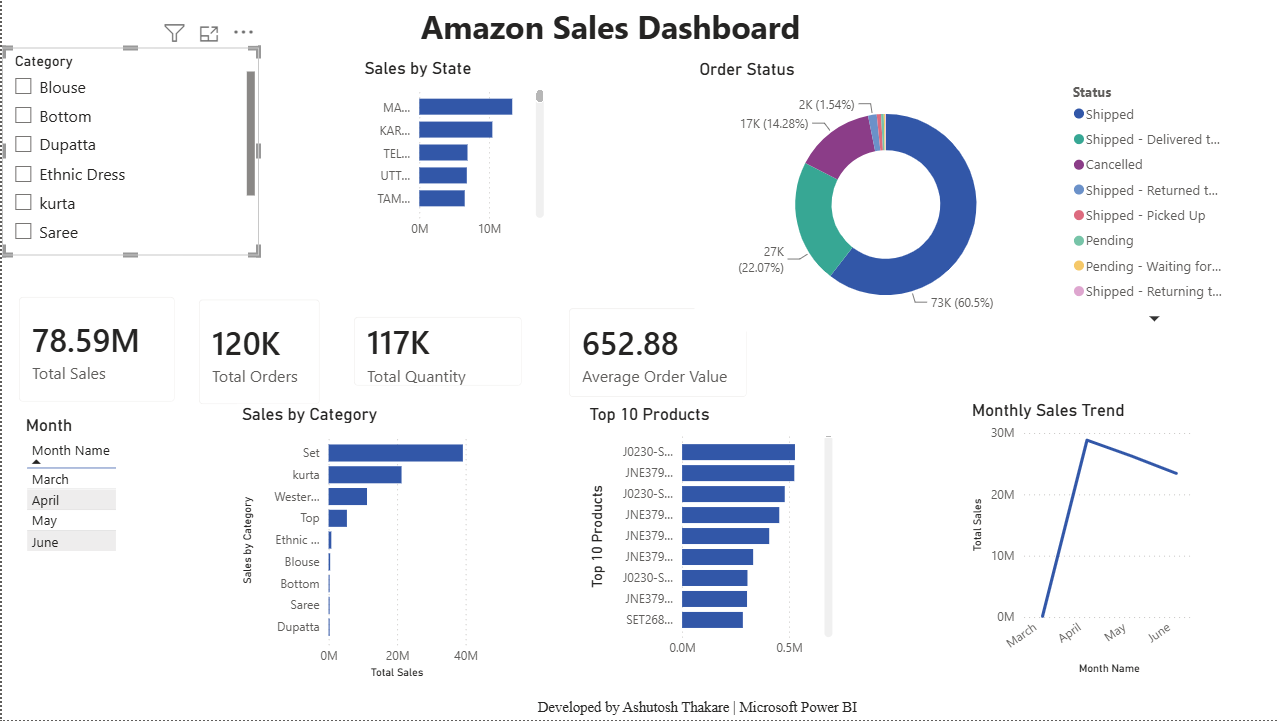

The page's visual inventory and layout, read from the dashboard file:
{"tool":"powerbi","page":{"name":"Page 1","canvas":[1280,720],"ordinal":0},"visuals":[{"type":"tableEx","title":"Month","fields":{"Values":["Date Table.Month Name"]},"box":[18.3,414.5,111.3,243.3],"z":0},{"type":"cardVisual","fields":{"Data":["Amazon Sale Report.Total Sales"]},"box":[0,280,190.8,139.4],"z":1000},{"type":"cardVisual","fields":{"Data":["Amazon Sale Report.Total Orders"]},"box":[179.8,282.5,155.3,139.4],"z":2000},{"type":"cardVisual","fields":{"Data":["Amazon Sale Report.Total Quantity"]},"box":[335.1,299.6,203,103.9],"z":3000},{"type":"cardVisual","fields":{"Data":["Amazon Sale Report.Average Order Value"]},"box":[550.3,291,212.8,123.5],"z":4000},{"type":"textbox","box":[414.3,0,485.7,58.6],"z":5000},{"type":"lineChart","title":"Monthly Sales Trend","fields":{"Category":["Date Table.Month Name"],"Y":["Amazon Sale Report.Total Sales"]},"box":[964.8,399.9,232.3,280],"z":6000},{"type":"slicer","fields":{"Values":["Amazon Sale Report.Category"]},"box":[0,47.7,258,209.1],"z":7000},{"type":"barChart","title":"Sales by Category","fields":{"Category":["Amazon Sale Report.Category"],"Y":["Amazon Sale Report.Total Sales"]},"box":[234.8,403.5,245.8,280],"z":8000},{"type":"donutChart","title":"Order Status","fields":{"Category":["Amazon Sale Report.Status"],"Y":["Amazon Sale Report.Total Orders"]},"box":[692.1,58.7,544.2,272.7],"z":9000},{"type":"barChart","title":"Top 10 Products","fields":{"Category":["Amazon Sale Report.SKU"],"Y":["Amazon Sale Report.Total Sales"]},"box":[582.1,403.5,253.1,276.4],"z":10000},{"type":"clusteredBarChart","title":"Sales by State","fields":{"Category":["Amazon Sale Report.ship-state"],"Y":["Amazon Sale Report.Total Sales"]},"box":[357.1,57.5,189.5,189.5],"z":11000},{"type":"textbox","box":[512.4,692.1,365.6,28.1],"z":12000}]}

Visuals, with their boxes in screenshot pixels (x1, y1, x2, y2), scaled from the page's 1280x720 canvas onto the 1278x721 screenshot:
"Month" tableEx: BBox(18, 415, 129, 659)
cardVisual - Amazon Sale Report.Total Sales: BBox(0, 280, 191, 420)
cardVisual - Amazon Sale Report.Total Orders: BBox(180, 283, 335, 422)
cardVisual - Amazon Sale Report.Total Quantity: BBox(335, 300, 537, 404)
cardVisual - Amazon Sale Report.Average Order Value: BBox(549, 291, 762, 415)
textbox: BBox(414, 0, 899, 59)
"Monthly Sales Trend" lineChart: BBox(963, 400, 1195, 681)
slicer - Amazon Sale Report.Category: BBox(0, 48, 258, 257)
"Sales by Category" barChart: BBox(234, 404, 480, 684)
"Order Status" donutChart: BBox(691, 59, 1234, 332)
"Top 10 Products" barChart: BBox(581, 404, 834, 681)
"Sales by State" clusteredBarChart: BBox(357, 58, 546, 247)
textbox: BBox(512, 693, 877, 720)
